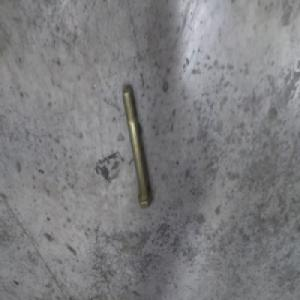Bolt: (122, 84, 152, 207)
